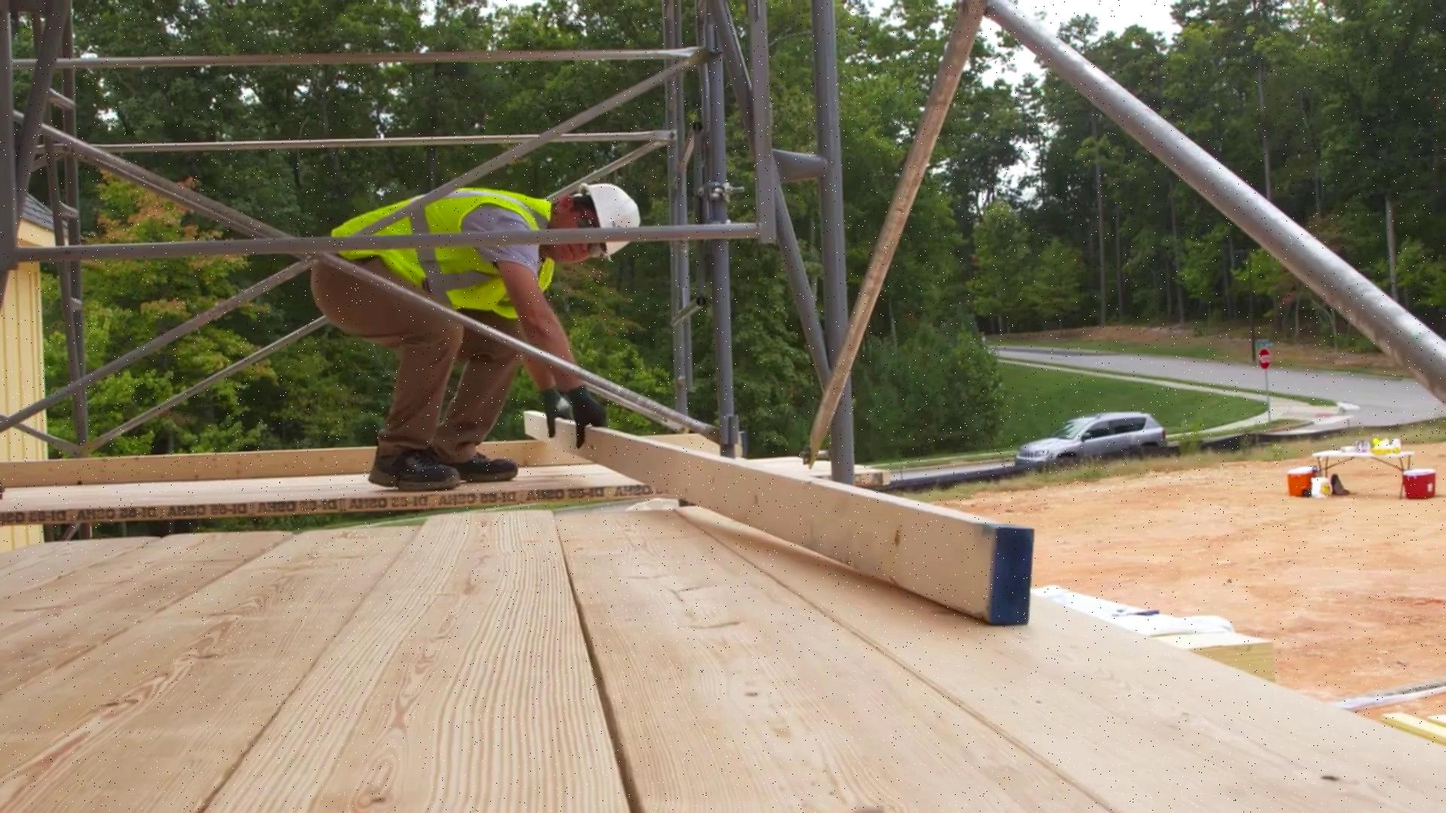Hard_hat: (586, 170, 650, 262)
Vest: (335, 197, 554, 309)
